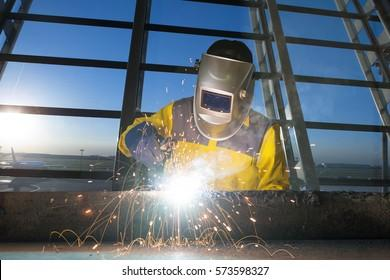gloves: (126, 123, 173, 166)
